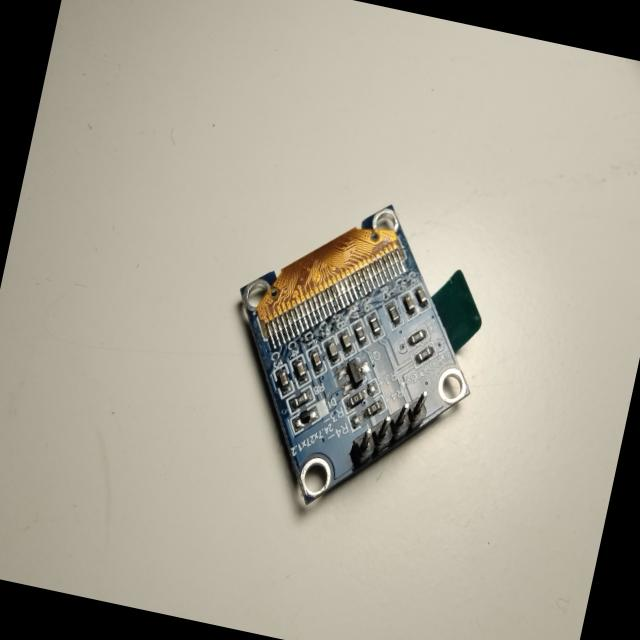oled: (200, 167, 518, 544)
